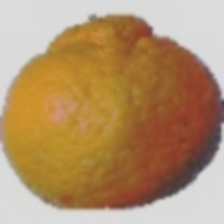tangerine: (33, 40, 224, 200)
